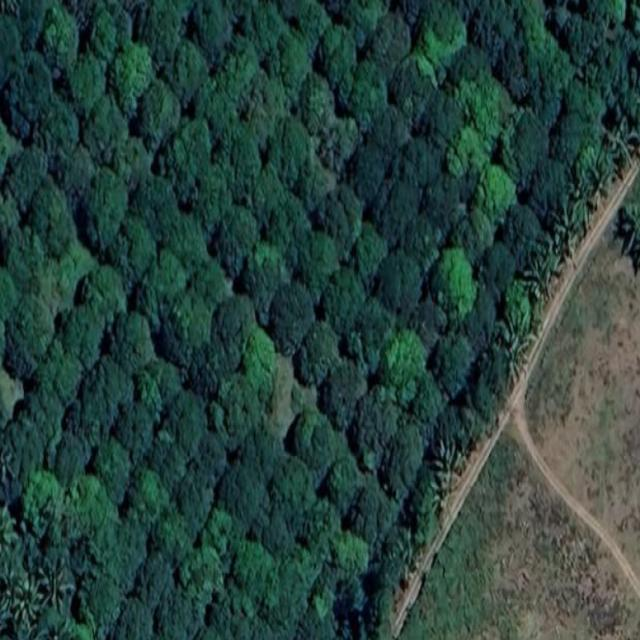Tree: (466, 0, 530, 104), (80, 508, 148, 585), (518, 0, 571, 98), (71, 365, 126, 451), (212, 456, 269, 534), (80, 169, 130, 254), (374, 244, 422, 330), (161, 120, 213, 198), (0, 415, 43, 508), (353, 383, 399, 469), (417, 0, 470, 73), (30, 176, 77, 258), (76, 562, 126, 638), (211, 378, 263, 451), (11, 56, 56, 140), (25, 372, 62, 473), (8, 301, 54, 381), (87, 93, 132, 174), (122, 471, 173, 542), (109, 211, 156, 288), (383, 322, 425, 408), (213, 293, 259, 371), (213, 203, 261, 276), (30, 233, 80, 303), (431, 246, 474, 326), (346, 293, 390, 371), (111, 41, 156, 117), (238, 243, 286, 313), (460, 75, 505, 149), (23, 471, 68, 545), (268, 449, 318, 515), (193, 75, 237, 149), (372, 174, 416, 248), (594, 31, 638, 105), (220, 122, 260, 203), (209, 589, 272, 640), (322, 264, 363, 342), (33, 99, 79, 168), (155, 577, 204, 640), (133, 177, 181, 241), (270, 283, 312, 356), (270, 115, 313, 186), (324, 355, 366, 427), (297, 232, 339, 304), (58, 305, 106, 367), (44, 3, 83, 79), (240, 325, 280, 399), (232, 540, 278, 604), (391, 52, 433, 122), (165, 387, 208, 455), (322, 183, 362, 256), (290, 406, 334, 471), (507, 115, 547, 186), (113, 395, 154, 464), (385, 426, 424, 498), (190, 2, 236, 63), (144, 428, 187, 492), (315, 27, 357, 92), (242, 3, 286, 65), (139, 75, 179, 143), (527, 160, 570, 223), (191, 164, 232, 230), (86, 268, 128, 332), (167, 37, 207, 104), (150, 509, 195, 568), (347, 144, 386, 212), (255, 506, 303, 561), (173, 284, 213, 350), (295, 588, 345, 640), (8, 143, 46, 211), (220, 49, 261, 112), (551, 192, 587, 263), (247, 78, 285, 145), (566, 78, 602, 148), (296, 322, 336, 384), (369, 13, 409, 75), (432, 332, 470, 397), (144, 240, 181, 306), (166, 216, 208, 274), (92, 440, 130, 504), (425, 172, 463, 236), (4, 222, 42, 286), (45, 343, 86, 402), (132, 548, 171, 610), (498, 204, 536, 267), (563, 15, 605, 72), (423, 85, 462, 146), (370, 104, 408, 166), (140, 4, 178, 66), (399, 137, 441, 193), (449, 123, 488, 182), (459, 294, 496, 356), (114, 314, 152, 374), (352, 56, 386, 123), (110, 130, 149, 188), (179, 343, 217, 402), (350, 225, 388, 284), (405, 211, 441, 273), (365, 568, 396, 640), (177, 550, 225, 596), (331, 524, 371, 579), (72, 472, 108, 532), (348, 488, 382, 550), (433, 442, 467, 504), (526, 251, 565, 305), (0, 16, 26, 97), (68, 54, 103, 114), (298, 154, 334, 212), (252, 168, 288, 226), (501, 315, 534, 378), (272, 191, 307, 250), (321, 116, 357, 173), (380, 519, 418, 573), (269, 566, 304, 624), (273, 32, 308, 90), (306, 499, 342, 555), (299, 75, 330, 140), (177, 467, 210, 528), (52, 430, 87, 487), (342, 4, 388, 47), (576, 150, 610, 208), (58, 143, 92, 201), (476, 161, 512, 215), (114, 596, 158, 640), (202, 506, 236, 562), (193, 262, 228, 314), (457, 210, 492, 262), (294, 2, 329, 54), (481, 244, 513, 299), (14, 1, 44, 58), (131, 280, 163, 333), (147, 359, 180, 410), (605, 114, 634, 172), (328, 454, 358, 508), (412, 374, 442, 428), (580, 0, 625, 36), (471, 363, 498, 423), (38, 563, 71, 612), (552, 113, 582, 166), (130, 375, 161, 421), (92, 5, 116, 63), (10, 575, 37, 624), (0, 267, 21, 328), (456, 163, 484, 204), (621, 206, 640, 262), (0, 188, 17, 249), (538, 87, 563, 128), (0, 510, 17, 569), (334, 66, 356, 110), (547, 3, 571, 37), (0, 581, 15, 627), (116, 9, 132, 49)
